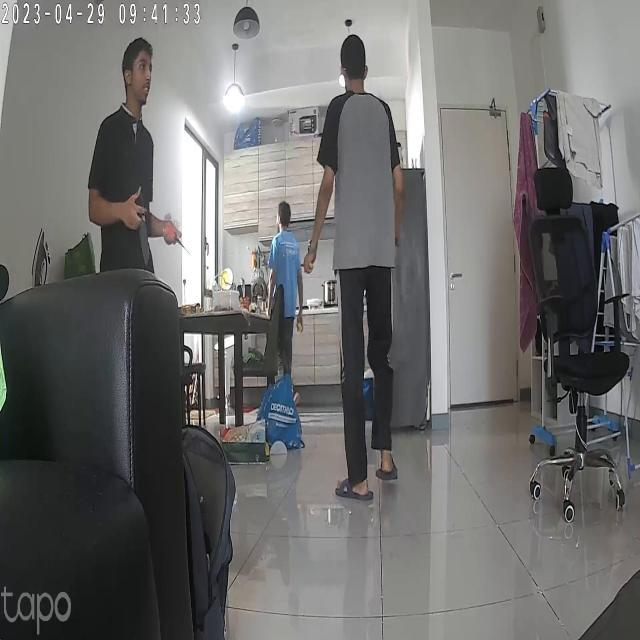Knife: (131, 200, 162, 267)
